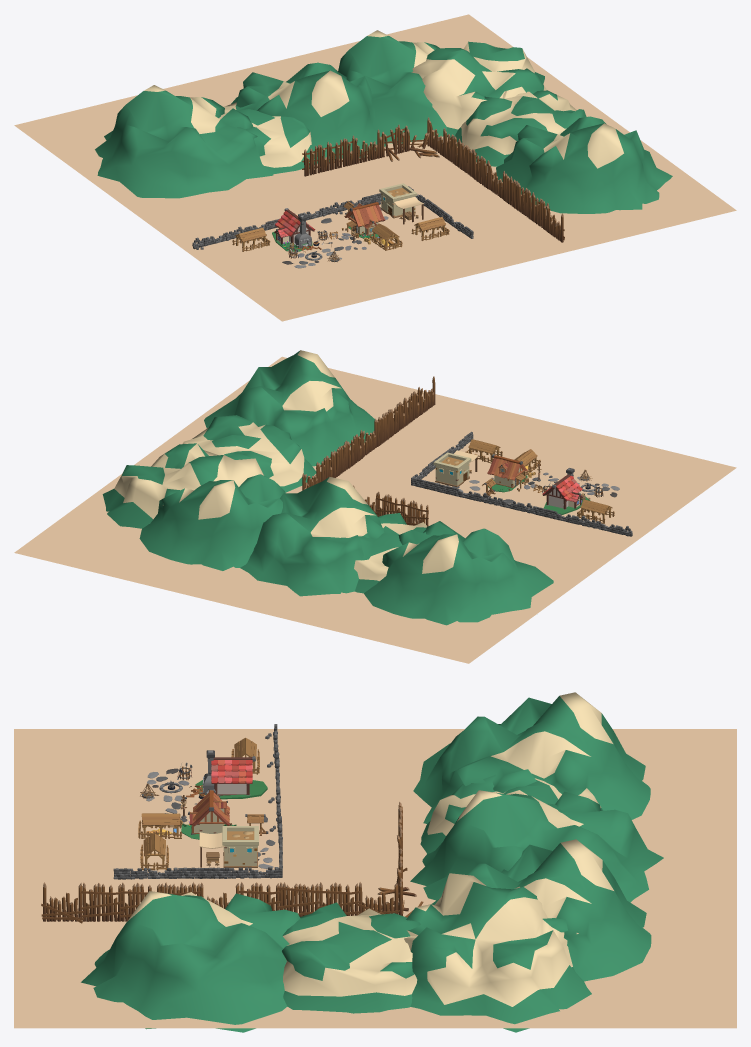
File: Preview_03.fbx
3 views of the same model, one above another, from view 1: azimuth 30°, elevation 25°; view 2: azimuth 150°, elevation 25°; view 3: azimuth 270°, elevation 25° (orthographic). The views are drawn at different scales.
Parts seen in each view (by area): view 1: Preview_03; view 2: Preview_03; view 3: Preview_03.
Part boxes in pixels (left/top/right/bottom): Preview_03: left=14, top=14, right=736, bottom=321; Preview_03: left=14, top=350, right=736, bottom=663; Preview_03: left=14, top=692, right=736, bottom=1032.
Bounding box in the file's own units: 9304 × 1368 × 9495.
Materials: 2 (2 with a texture image).
